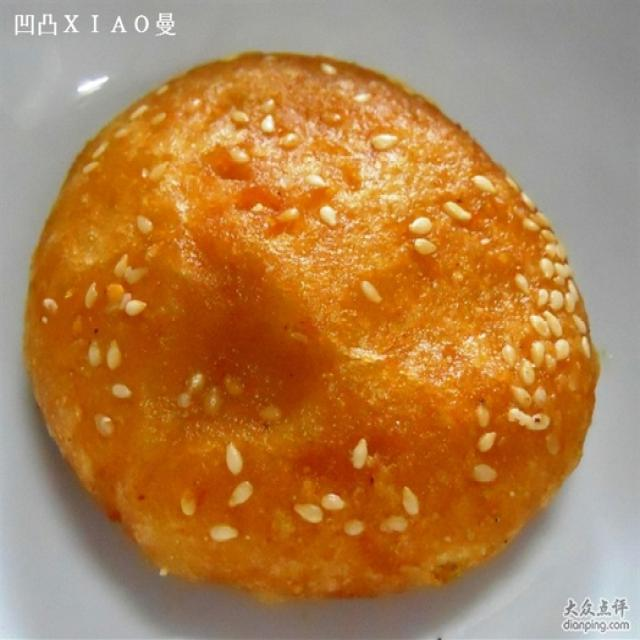炸货点心: (22, 42, 607, 610)
蛋糕甜品: (22, 42, 607, 610)
